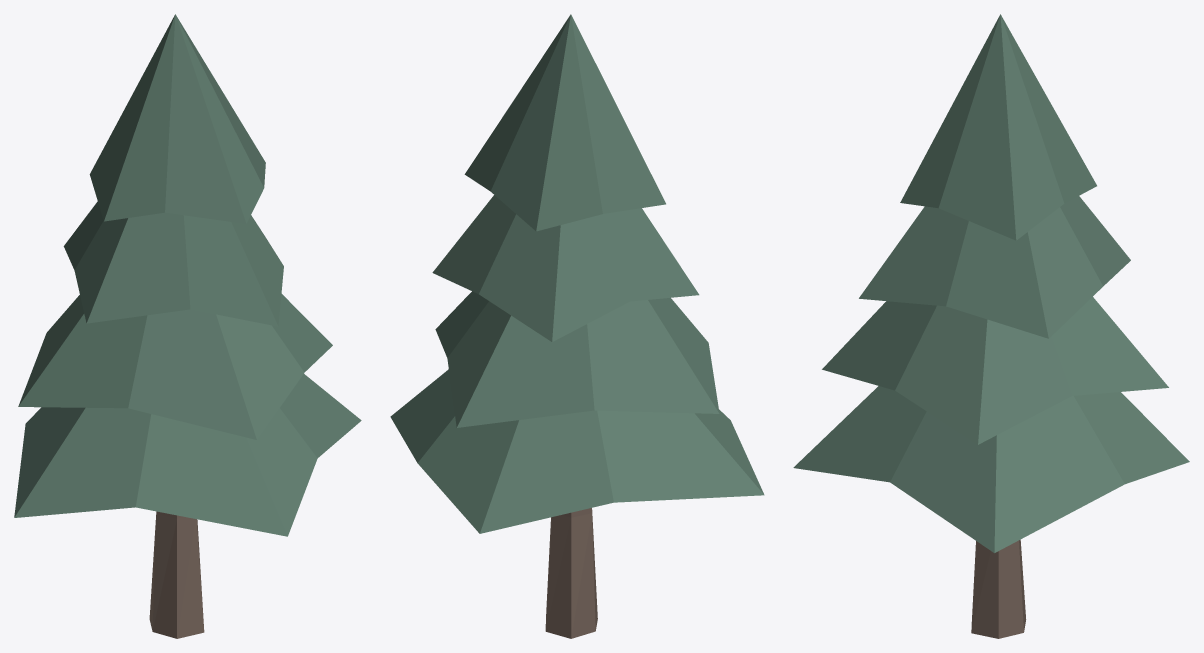
The model's file is Pine_Medium.glb.
3 views of the same model, side by side, from view 1: azimuth 30°, elevation 25°; view 2: azimuth 150°, elevation 25°; view 3: azimuth 270°, elevation 25° (orthographic).
Visible parts, largest first — view 1: Foliage, Trunk; view 2: Foliage, Trunk; view 3: Foliage, Trunk.
Part boxes in pixels (x1,y1,x2,y2): Foliage: [14, 14, 361, 536]; Trunk: [149, 511, 204, 638]; Foliage: [390, 14, 764, 533]; Trunk: [545, 508, 597, 638]; Foliage: [793, 14, 1189, 552]; Trunk: [971, 539, 1026, 638].
Bounding box in the file's own units: 14.84 × 24.04 × 14.13.
